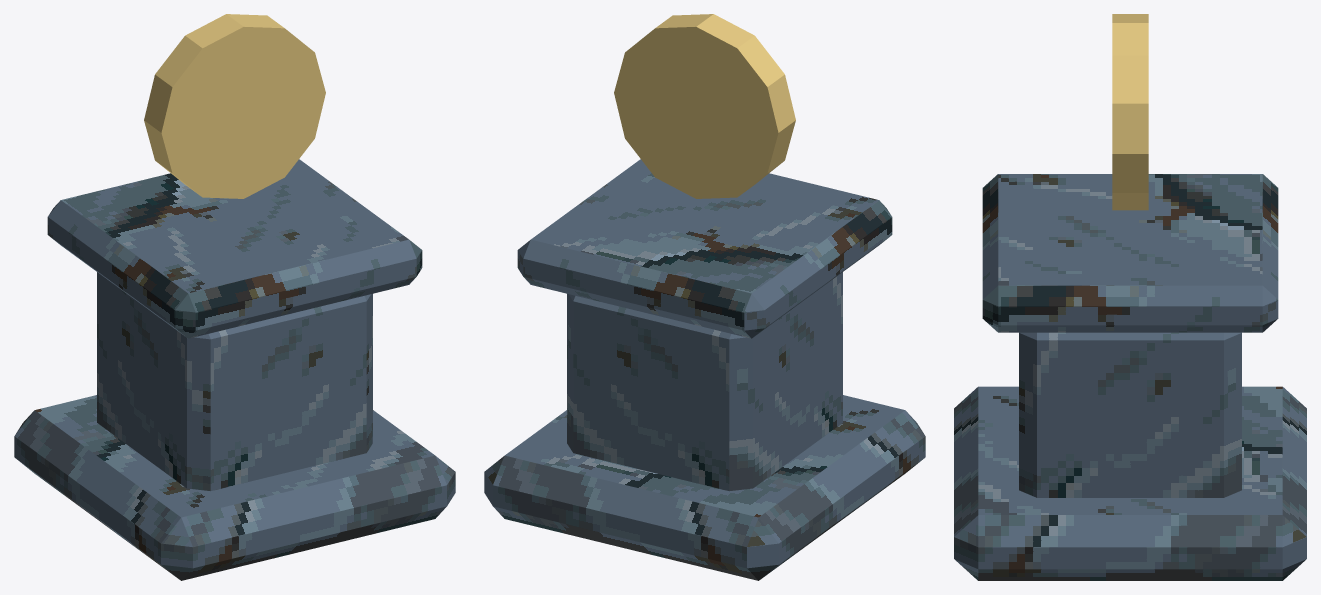
Rendered from pilar_galeao.fbx.
3 renders of one model, left to right at view 1: azimuth 30°, elevation 25°; view 2: azimuth 150°, elevation 25°; view 3: azimuth 270°, elevation 25°, orthographic. The views are drawn at different scales.
Visible parts, largest first — view 1: pedreira_pilar_galeao; view 2: pedreira_pilar_galeao; view 3: pedreira_pilar_galeao.
Part boxes in pixels (x1=…): pedreira_pilar_galeao: x1=14, y1=14, x2=455, y2=580; pedreira_pilar_galeao: x1=484, y1=14, x2=925, y2=580; pedreira_pilar_galeao: x1=954, y1=14, x2=1306, y2=580.
Bounding box in the file's own units: 68 × 105 × 68.
2 materials, 1 textured.
